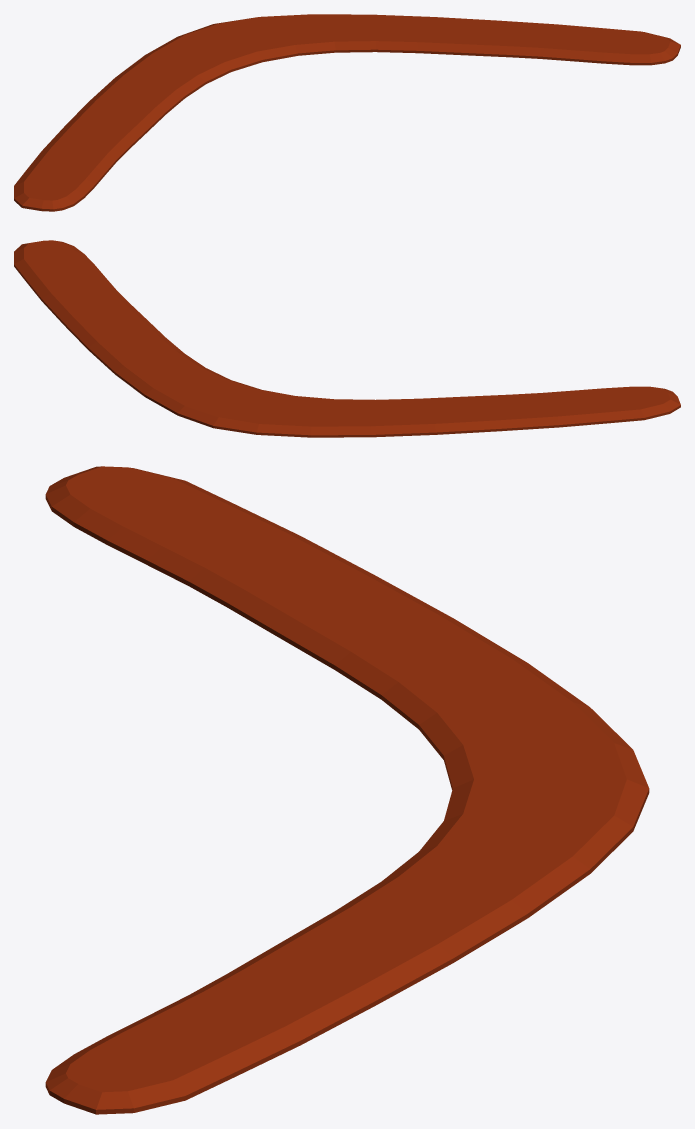
Rendered from boomerang.glb.
3 views of the same model, one above another, from view 1: azimuth 30°, elevation 25°; view 2: azimuth 150°, elevation 25°; view 3: azimuth 270°, elevation 25° (orthographic). The views are drawn at different scales.
Parts seen in each view (by area): view 1: BezierCircle.001; view 2: BezierCircle.001; view 3: BezierCircle.001.
Boxes of the visible parts, x1=… form: BezierCircle.001: x1=14, y1=14, x2=680, y2=211; BezierCircle.001: x1=14, y1=240, x2=680, y2=437; BezierCircle.001: x1=45, y1=466, x2=649, y2=1114.
Size of the model in its own units: 1.5 by 0.0149 by 0.5934.
